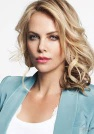female: (19, 6, 78, 81)
